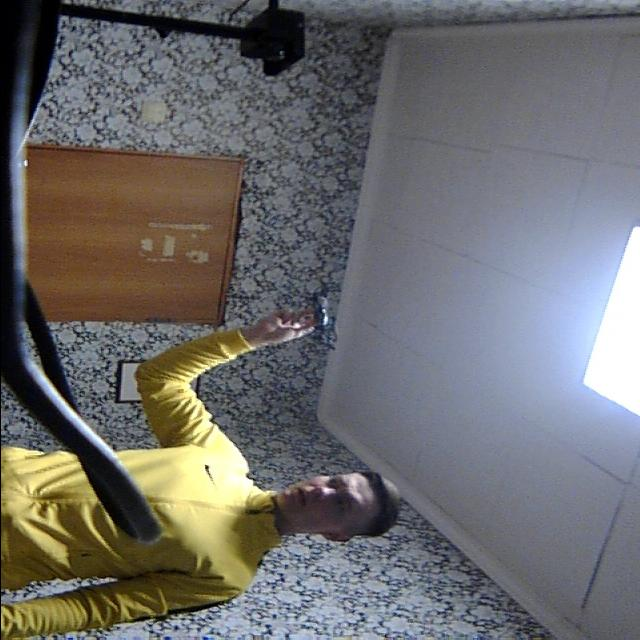drone: (299, 274, 365, 360)
